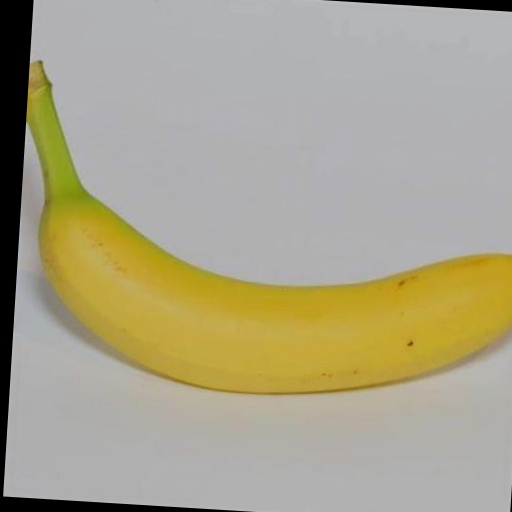fruit: (26, 62, 512, 393)
